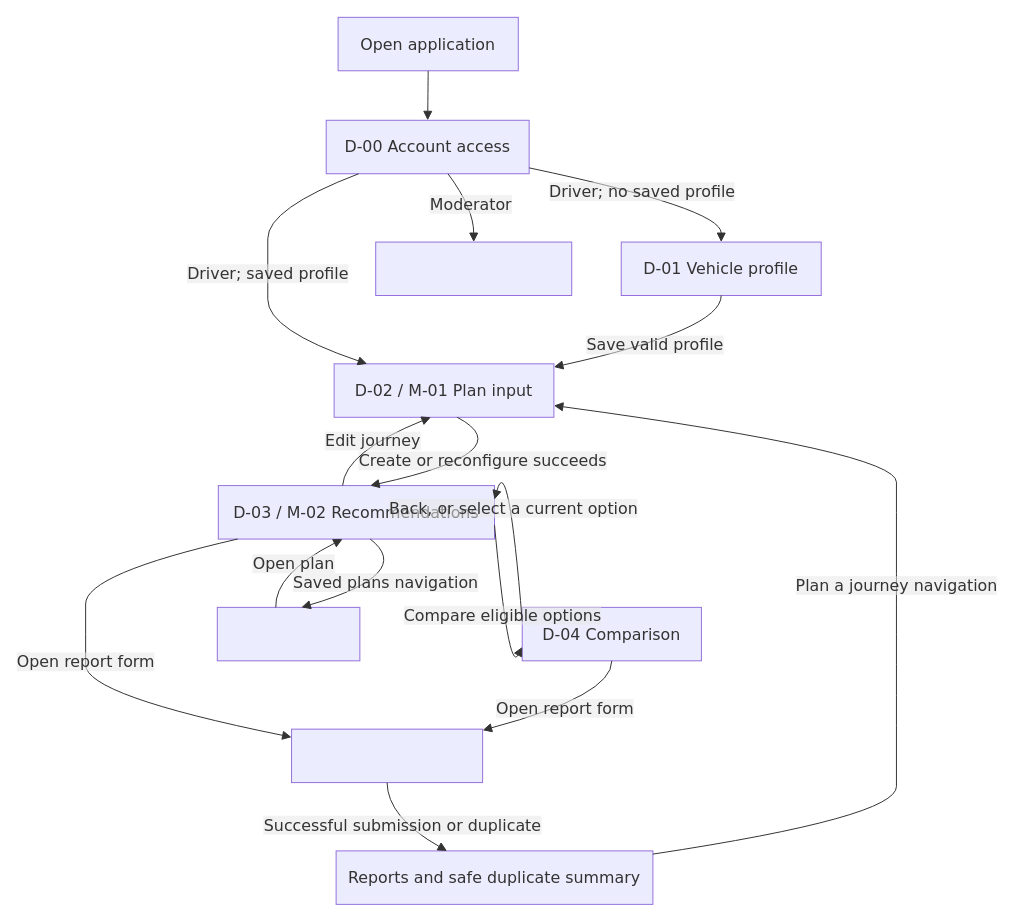
The diagram is 1015 pixels wide and 922 high, and some of its shapes have lost their labels. Each missing label, with the box of its shape:
D-05 Report modal: (291, 728, 483, 783)
D-06 Report review: (375, 241, 572, 296)
Saved plans: (216, 606, 360, 661)
